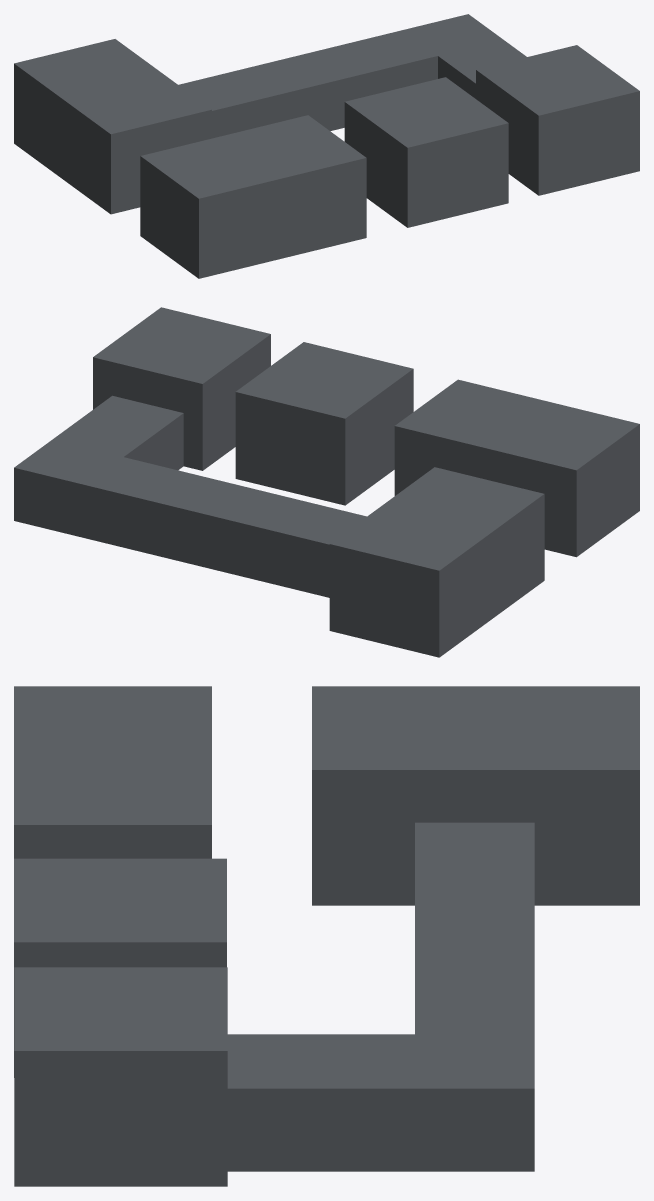
File: SM_Env_Background_Building_Detail_02.fbx
The picture shows the model from 3 angles, top to bottom: view 1: azimuth 30°, elevation 25°; view 2: azimuth 150°, elevation 25°; view 3: azimuth 270°, elevation 25°; orthographic projection. The views are drawn at different scales.
Visible parts, largest first — view 1: SM_Env_Background_Building_Detail_02; view 2: SM_Env_Background_Building_Detail_02; view 3: SM_Env_Background_Building_Detail_02.
Part boxes in pixels (<box>): SM_Env_Background_Building_Detail_02: <box>14,14,639,278</box>; SM_Env_Background_Building_Detail_02: <box>14,307,639,657</box>; SM_Env_Background_Building_Detail_02: <box>14,686,639,1186</box>.
Bounding box in the file's own units: 1110 × 193 × 805.
